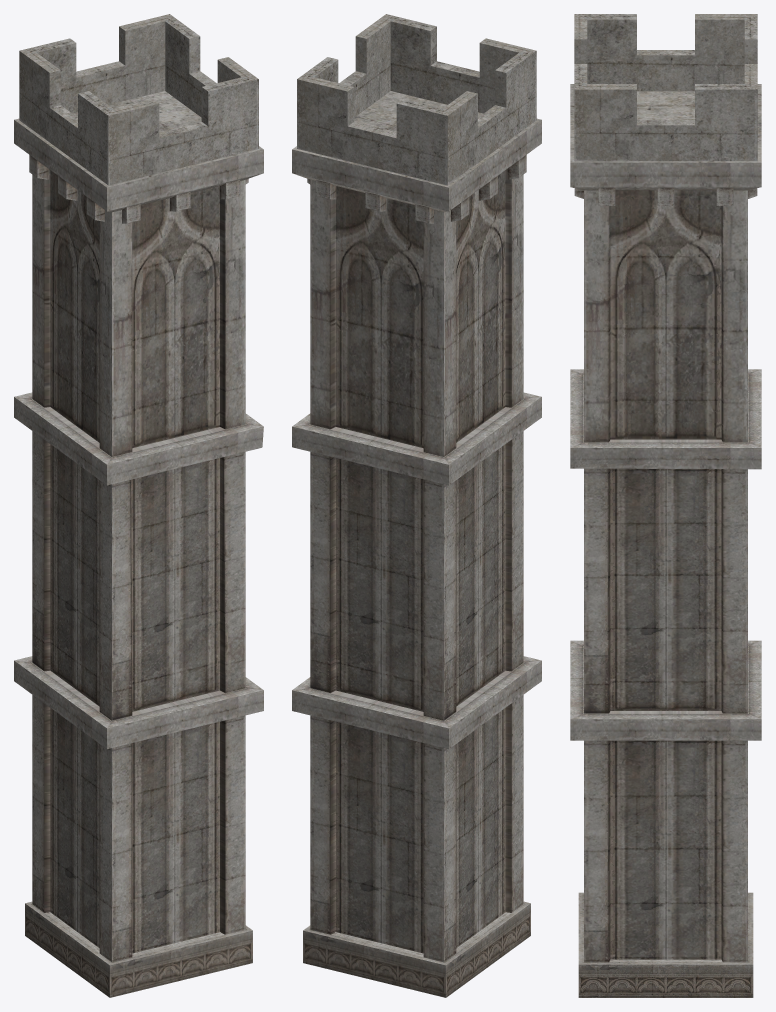
File: bg_lut_lucastle_arena01_sm_ksh.FBX
The picture shows the model from 3 angles, left to right: view 1: azimuth 30°, elevation 25°; view 2: azimuth 150°, elevation 25°; view 3: azimuth 270°, elevation 25°; orthographic projection. The views are drawn at different scales.
Parts seen in each view (by area): view 1: bg_lut_lucastle_arena01_sm_ksh; view 2: bg_lut_lucastle_arena01_sm_ksh; view 3: bg_lut_lucastle_arena01_sm_ksh.
Part boxes in pixels (bbox=[...]): bg_lut_lucastle_arena01_sm_ksh: bbox=[14, 14, 263, 997]; bg_lut_lucastle_arena01_sm_ksh: bbox=[292, 14, 541, 997]; bg_lut_lucastle_arena01_sm_ksh: bbox=[570, 14, 761, 997].
Bounding box in the file's own units: 124 × 668 × 127.
